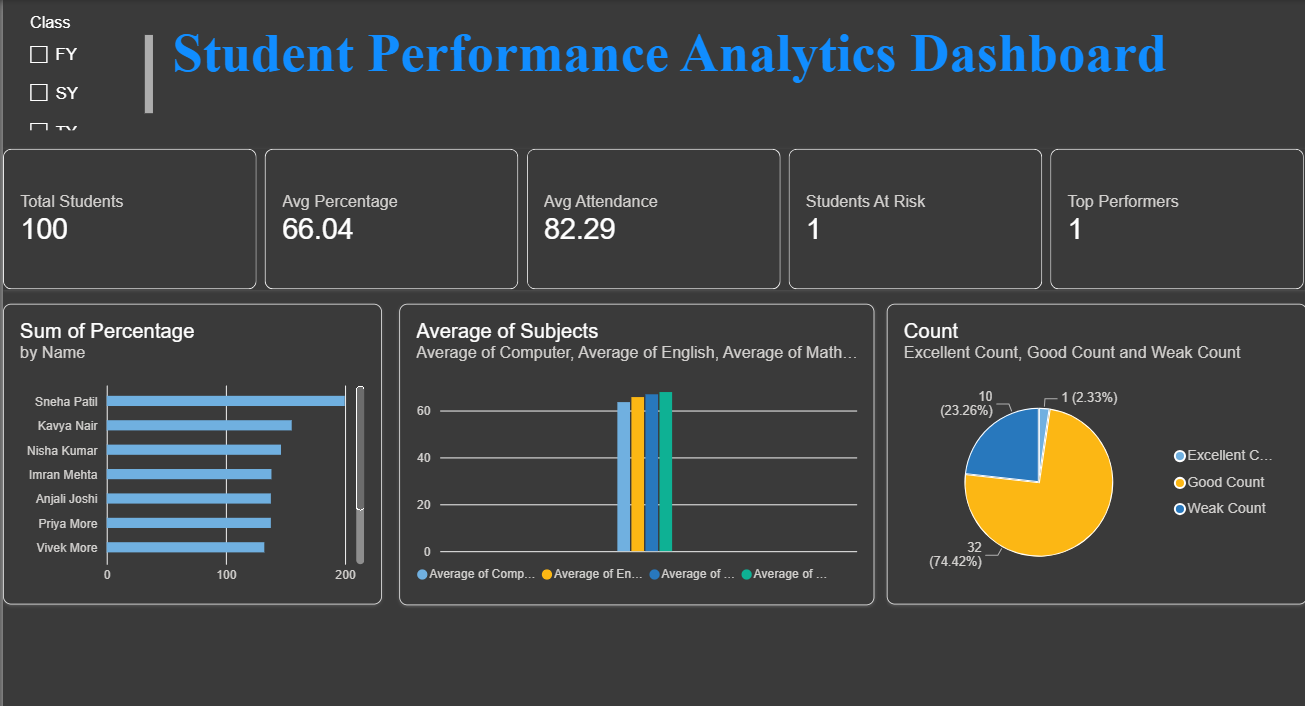

This screenshot's page, from the dashboard's own definition file:
{"tool":"powerbi","page":{"name":"Page 1","canvas":[1280,720],"ordinal":0},"visuals":[{"type":"textbox","box":[147.8,22.2,1014.4,96.7],"z":0},{"type":"cardVisual","fields":{"Data":["Students.Total Students","Students.Avg Percentage","Students.Avg Attendance","Students.Students At Risk","Students.Top Performers"]},"box":[0,145.5,1280.3,138.6],"z":1000},{"type":"barChart","fields":{"Category":["Students.Name"],"Y":["Sum(Students.Percentage)"]},"box":[0,298.6,371.9,294.8],"z":2000},{"type":"pieChart","title":"Count","fields":{"Y":["Students.Excellent Count","Students.Good Count","Students.Weak Count"]},"box":[867,298.6,413,294.8],"z":3000},{"type":"clusteredColumnChart","title":"Average of Subjects","fields":{"Y":["Avg(Students.Computer)","Avg(Students.English)","Avg(Students.Maths)","Avg(Students.Science)"]},"box":[389.4,298.6,466.5,296.1],"z":4000},{"type":"slicer","fields":{"Values":["Students.Class"]},"box":[18.4,13.5,128.9,114.4],"z":5000}]}

Visuals, with their boxes on the page's 1280x720 design canvas (x1, y1, x2, y2). These are canvas units, not pixel positions in the 1305x706 screenshot, which may show the page scaled, cropped or inside an application window:
textbox: select_region(148, 22, 1162, 119)
cardVisual - Students.Total Students x Students.Avg Percentage: select_region(0, 146, 1280, 284)
barChart - Students.Name x Sum(Students.Percentage): select_region(0, 299, 372, 593)
"Count" pieChart: select_region(867, 299, 1280, 593)
"Average of Subjects" clusteredColumnChart: select_region(389, 299, 856, 595)
slicer - Students.Class: select_region(18, 14, 147, 128)
